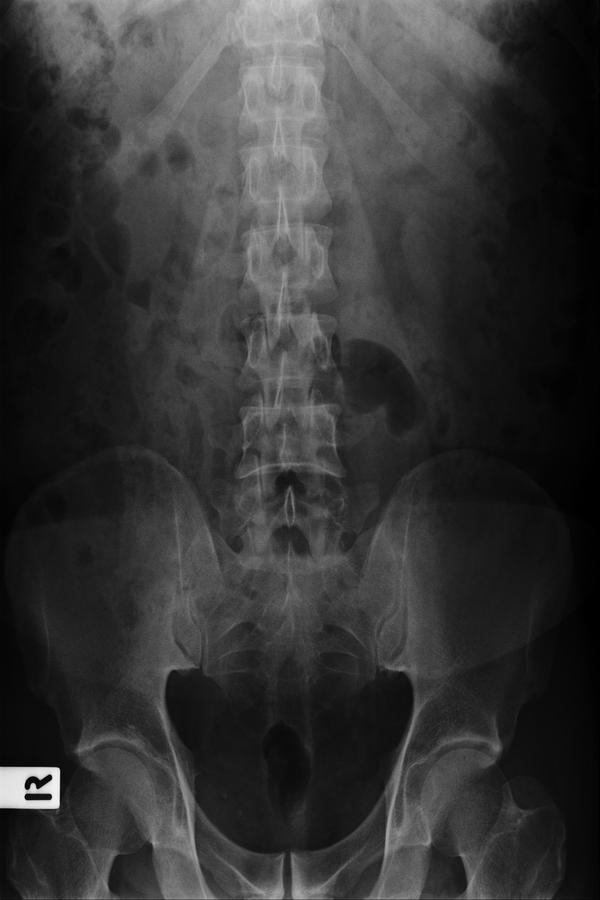not lumbar scoliosis: (228, 184, 348, 559)
